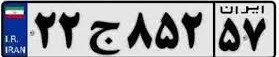character: (86, 11, 122, 57), (123, 7, 154, 51), (57, 6, 85, 54), (31, 6, 58, 53), (180, 5, 205, 52), (155, 8, 181, 52), (241, 14, 270, 52), (218, 15, 242, 55)
